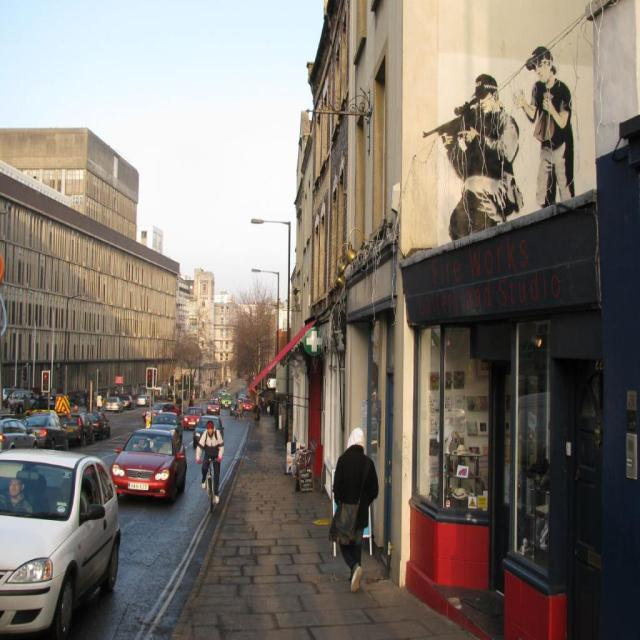car: (240, 398, 255, 410), (205, 399, 219, 411), (221, 391, 230, 407)
